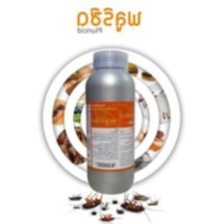insecticide: (82, 47, 139, 195)
